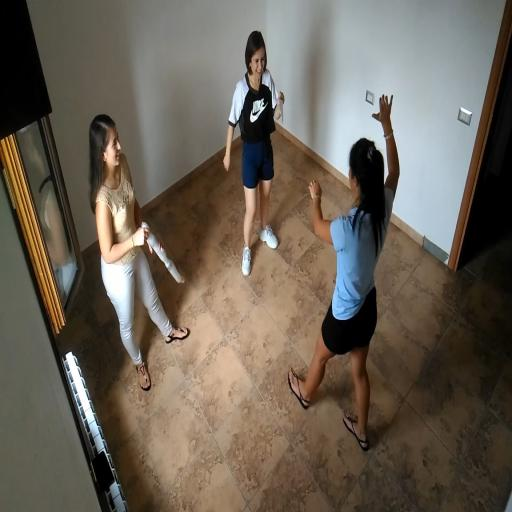cumprimento: (214, 19, 406, 455)
